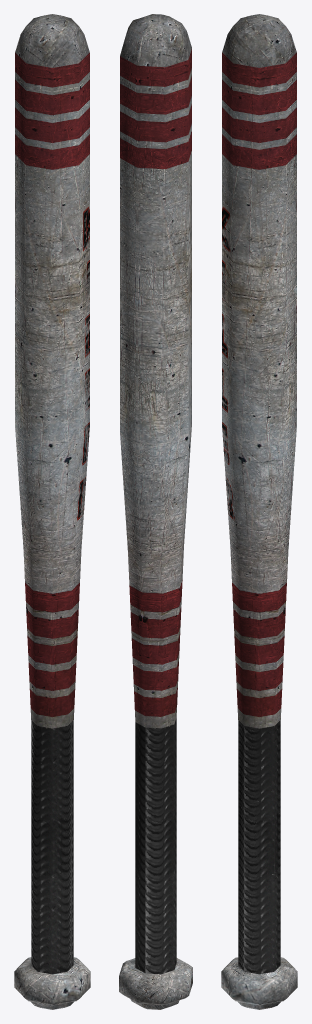
The model's file is BaseballBat_Killer_Metal(Grime).fbx.
3 renders of one model, left to right at view 1: azimuth 90°, elevation 25°; view 2: azimuth 150°, elevation 25°; view 3: azimuth 270°, elevation 25°, orthographic.
Parts seen in each view (by area): view 1: BaseballBat_Killer_Metal(Grime); view 2: BaseballBat_Killer_Metal(Grime); view 3: BaseballBat_Killer_Metal(Grime).
Boxes of the visible parts, x1,y1,x2,y2 form: BaseballBat_Killer_Metal(Grime): [14, 14, 90, 1009]; BaseballBat_Killer_Metal(Grime): [119, 14, 192, 1009]; BaseballBat_Killer_Metal(Grime): [221, 14, 297, 1009].
Bounding box in the file's own units: 5.92 × 84.03 × 5.92.
